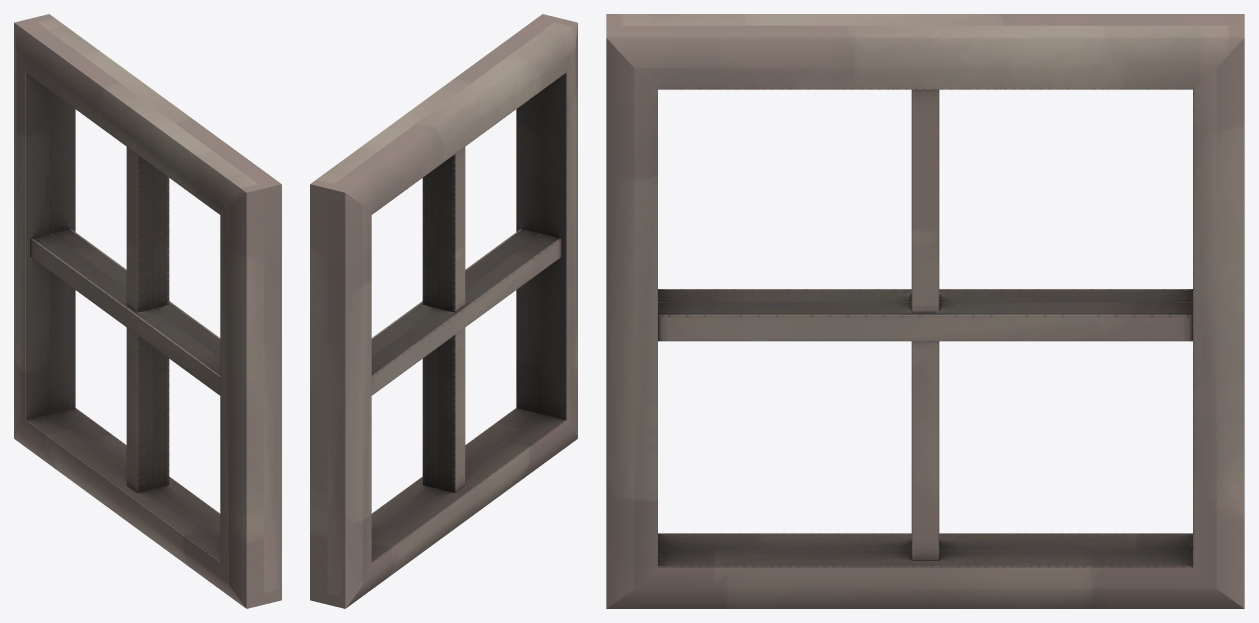
Rendered from external_window_04b.glb.
3 renders of one model, left to right at view 1: azimuth 30°, elevation 25°; view 2: azimuth 150°, elevation 25°; view 3: azimuth 270°, elevation 25°, orthographic. The views are drawn at different scales.
Parts seen in each view (by area): view 1: external_window_04b; view 2: external_window_04b; view 3: external_window_04b.
Boxes of the visible parts, bbox=[...] form: external_window_04b: bbox=[14, 14, 281, 608]; external_window_04b: bbox=[310, 14, 577, 608]; external_window_04b: bbox=[606, 14, 1244, 608].
Bounding box in the file's own units: 0.2195 × 1.73 × 1.76.
1 material, 1 textured.
